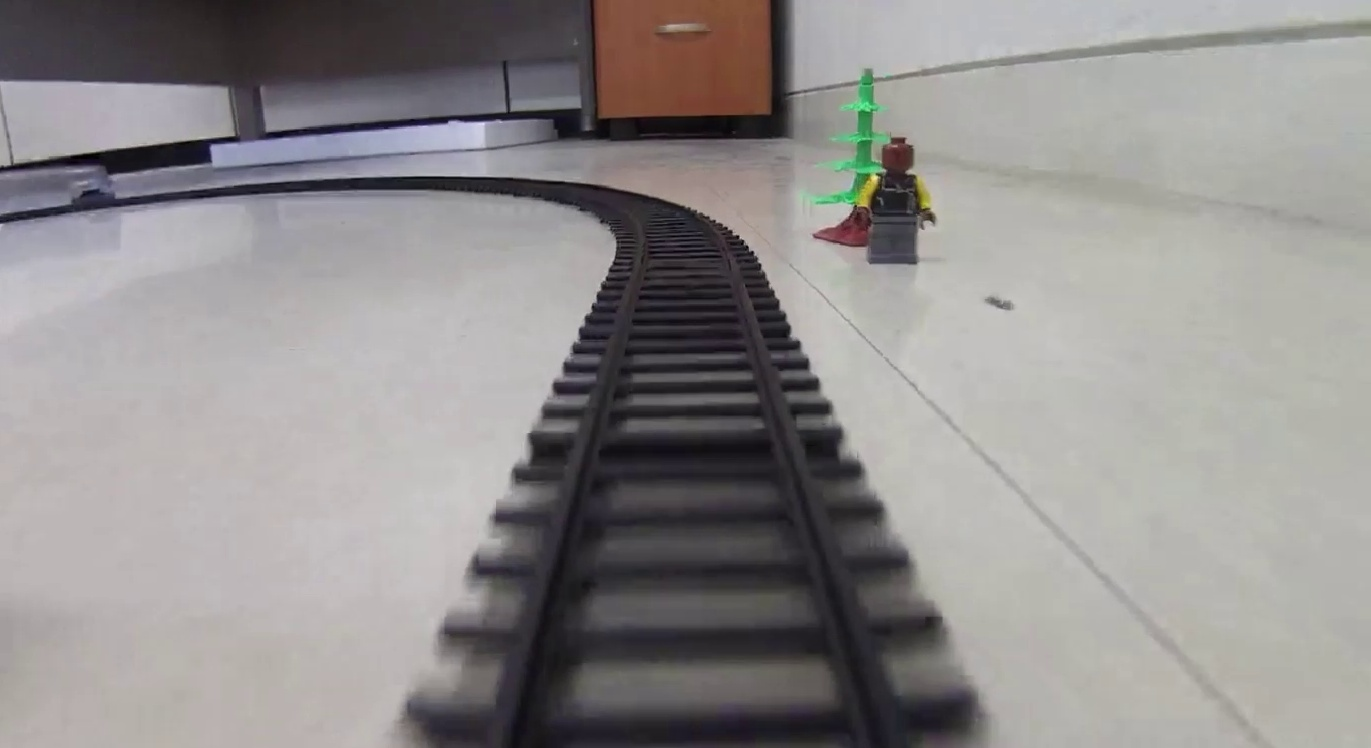people: (858, 137, 937, 266)
